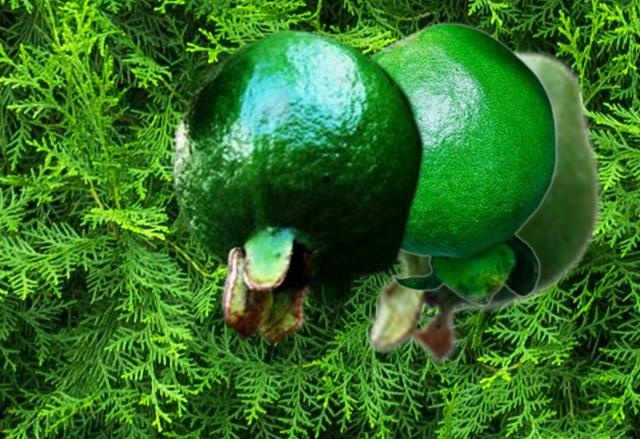guava: (171, 27, 425, 345), (366, 48, 601, 366), (371, 22, 557, 305)
